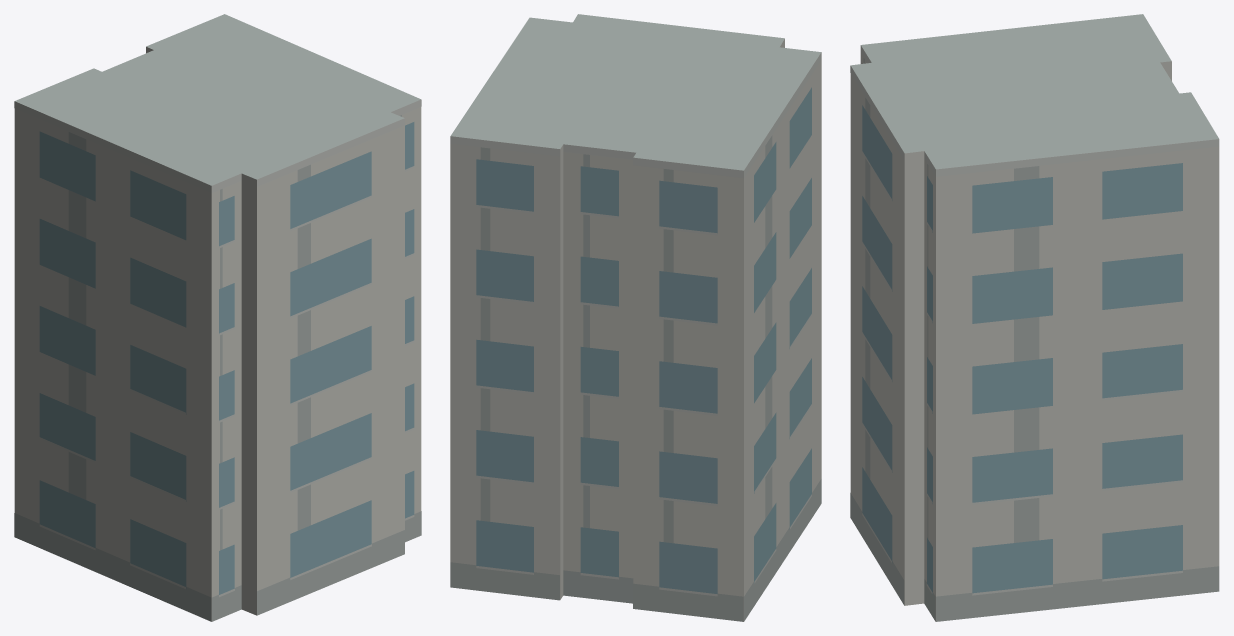
Rendered from survey-upis-32641298.glb.
3 views of the same model, side by side, from view 1: azimuth 30°, elevation 25°; view 2: azimuth 150°, elevation 25°; view 3: azimuth 270°, elevation 25° (orthographic). The views are drawn at different scales.
Parts seen in each view (by area): view 1: survey-upis-32641298.tmp; view 2: survey-upis-32641298.tmp; view 3: survey-upis-32641298.tmp.
Boxes of the visible parts, bbox=[...] form: survey-upis-32641298.tmp: bbox=[14, 14, 421, 621]; survey-upis-32641298.tmp: bbox=[450, 14, 821, 621]; survey-upis-32641298.tmp: bbox=[850, 14, 1219, 621].
Size of the model in its own units: 10.66 by 14.45 by 10.69.
